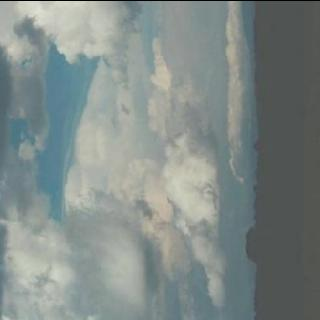Cumulus: (0, 0, 258, 320)
